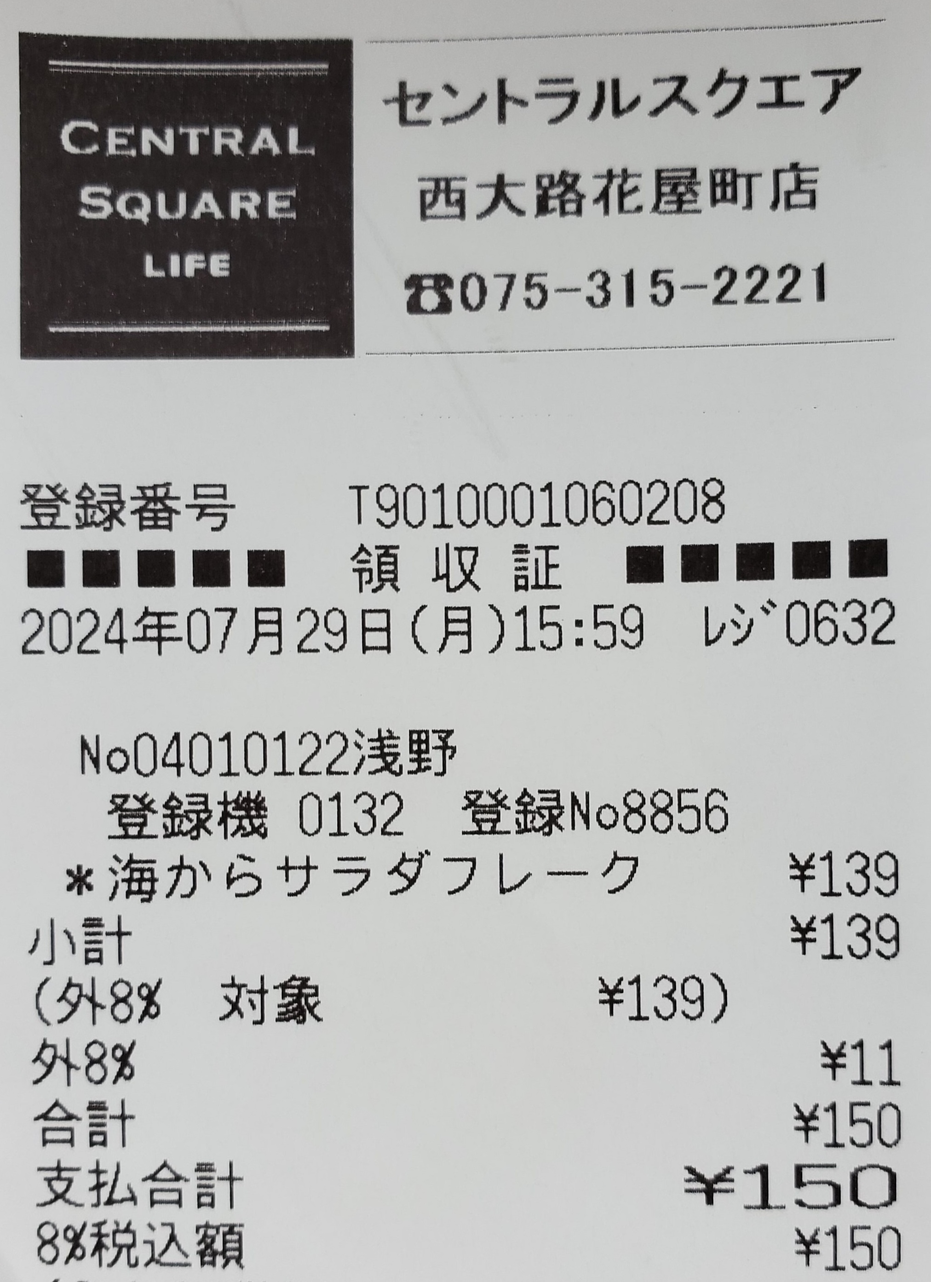Date: (14, 598, 408, 666)
Shopname: (374, 52, 882, 134)
Telnum: (459, 259, 840, 316)
Totalpay: (21, 1148, 919, 1221)
